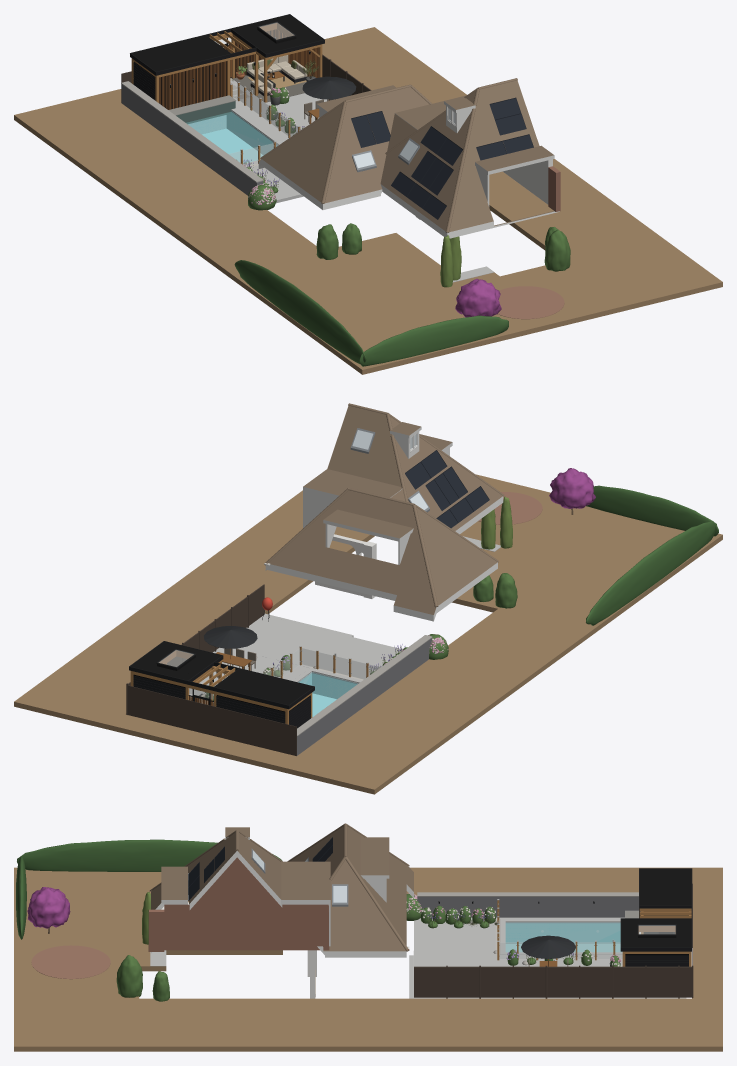
File: veranda.glb
3 renders of one model, top to bottom at view 1: azimuth 30°, elevation 25°; view 2: azimuth 150°, elevation 25°; view 3: azimuth 270°, elevation 25°, orthographic.
Parts seen in each view (by area): view 1: Maaiveld, Dak, Zonnepanelen, Leistenen tuinmuur (west), Haag 2, Haag 1, Dakbeschot 18 mm + EPDM, Terras achter, Schuur zwembadgevel - latten thermowood 28x45, Zwembad water, Zwembad bassin, Vorsten en heupkappen (+15 smaller); view 2: Maaiveld, Dak, Schutting buren (oost en achter), Terras achter, Haag 2, Leistenen tuinmuur (west), Dakbeschot 18 mm + EPDM, Haag 1, Zonnepanelen, Vorsten en heupkappen, Judasboom kroon, Zwembadhek glas (+11 smaller); view 3: Maaiveld, Dak, Woningscheidende muur, Schutting buren (oost en achter), Terras achter, Haag 2, Leistenen tuinmuur (west), Dakbeschot 18 mm + EPDM, Zwembad bassin, Zwembad water, Klinkercirkel voortuin, Judasboom kroon (+15 smaller).
Part boxes in pixels (left/top/right/bottom): Maaiveld: left=14, top=27, right=722, bottom=374; Dak: left=258, top=80, right=559, bottom=238; Zonnepanelen: left=351, top=97, right=533, bottom=219; Leistenen tuinmuur (west): left=121, top=81, right=263, bottom=195; Haag 2: left=234, top=260, right=366, bottom=363; Haag 1: left=359, top=315, right=508, bottom=366; Dakbeschot 18 mm + EPDM: left=131, top=14, right=323, bottom=71; Terras achter: left=230, top=80, right=327, bottom=203; Schuur zwembadgevel - latten thermowood 28x45: left=159, top=61, right=227, bottom=109; Zwembad water: left=187, top=112, right=276, bottom=162; Zwembad bassin: left=188, top=111, right=278, bottom=162; Vorsten en heupkappen: left=260, top=78, right=517, bottom=232; Maaiveld: left=14, top=474, right=722, bottom=794; Dak: left=265, top=405, right=503, bottom=621; Schutting buren (oost en achter): left=126, top=584, right=296, bottom=755; Terras achter: left=189, top=613, right=402, bottom=702; Haag 2: left=586, top=521, right=716, bottom=625; Leistenen tuinmuur (west): left=297, top=635, right=432, bottom=755; Dakbeschot 18 mm + EPDM: left=130, top=641, right=313, bottom=705; Haag 1: left=586, top=485, right=718, bottom=536; Zonnepanelen: left=405, top=450, right=489, bottom=528; Vorsten en heupkappen: left=264, top=403, right=504, bottom=607; Judasboom kroon: left=549, top=468, right=595, bottom=508; Zwembadhek glas: left=265, top=648, right=380, bottom=679; Maaiveld: left=14, top=867, right=722, bottom=1051; Dak: left=151, top=826, right=413, bottom=957; Woningscheidende muur: left=164, top=857, right=409, bottom=950; Schutting buren (oost en achter): left=414, top=883, right=693, bottom=998; Terras achter: left=409, top=917, right=686, bottom=998; Haag 2: left=17, top=839, right=282, bottom=871; Leistenen tuinmuur (west): left=417, top=892, right=640, bottom=917; Dakbeschot 18 mm + EPDM: left=621, top=868, right=691, bottom=947; Zwembad bassin: left=505, top=922, right=620, bottom=951; Zwembad water: left=505, top=923, right=620, bottom=951; Klinkercirkel voortuin: left=31, top=945, right=110, bottom=979; Judasboom kroon: left=27, top=887, right=70, bottom=928.
Size of the model in its own units: 23 by 10.51 by 38.5.
71 materials, 4 textured.
